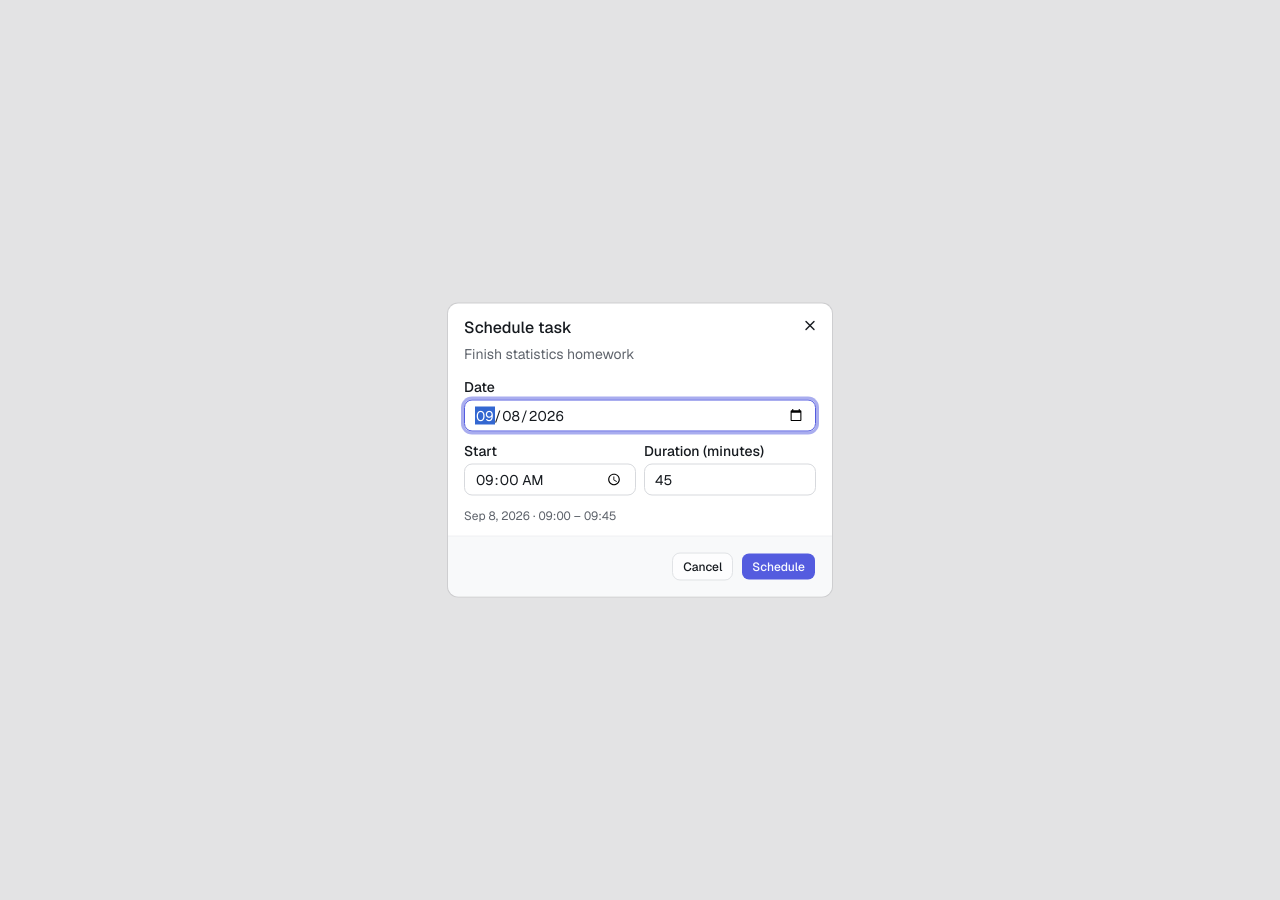
Test: ScheduleTaskDialog › refuses a block shorter than the minimum
Step 1. Replace the text in the number field labelled "Duration (minutes)" with "5" → (730, 480), box [644,464,816,496]
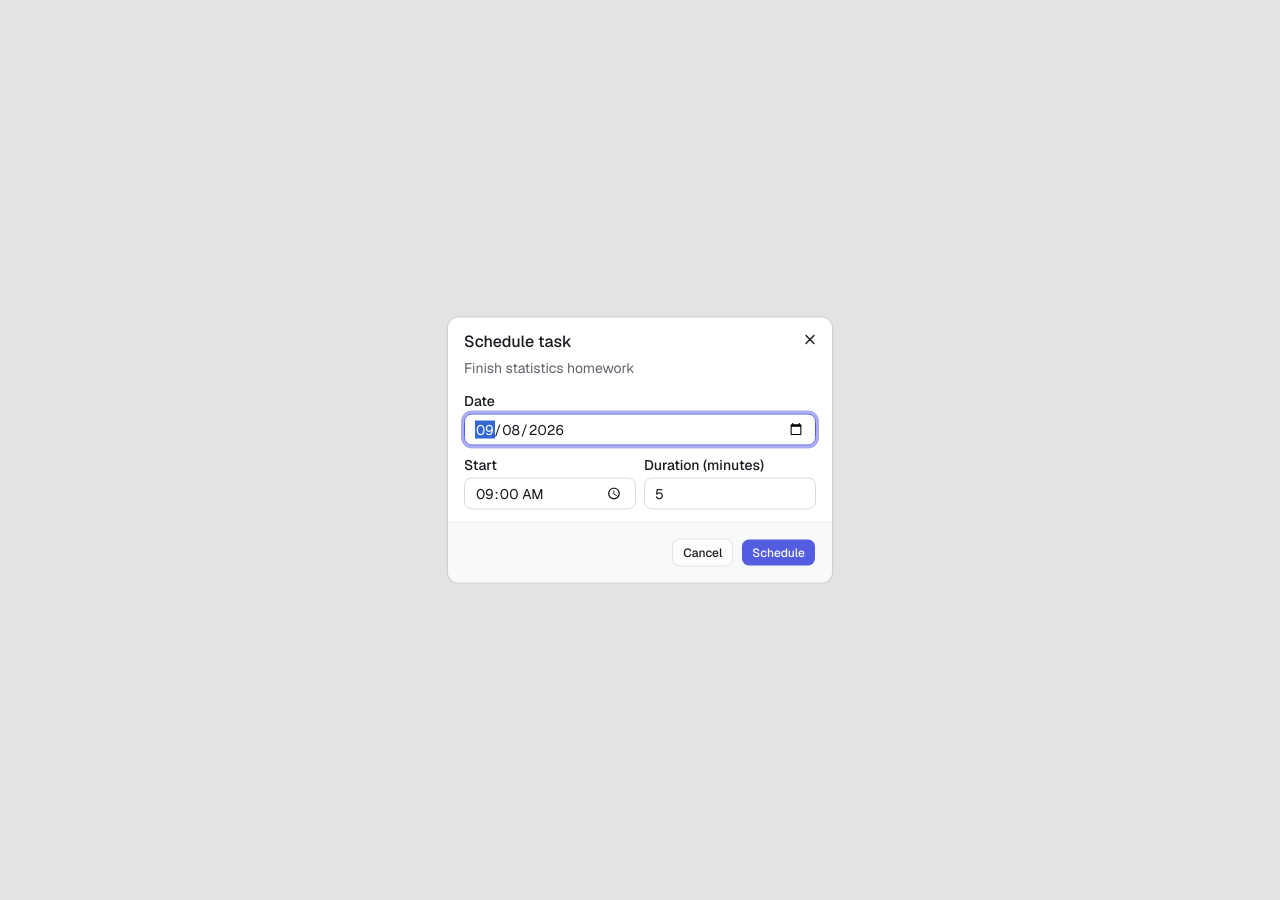
Step 2. Click the button "Schedule" → (779, 552), box [741,538,816,566]
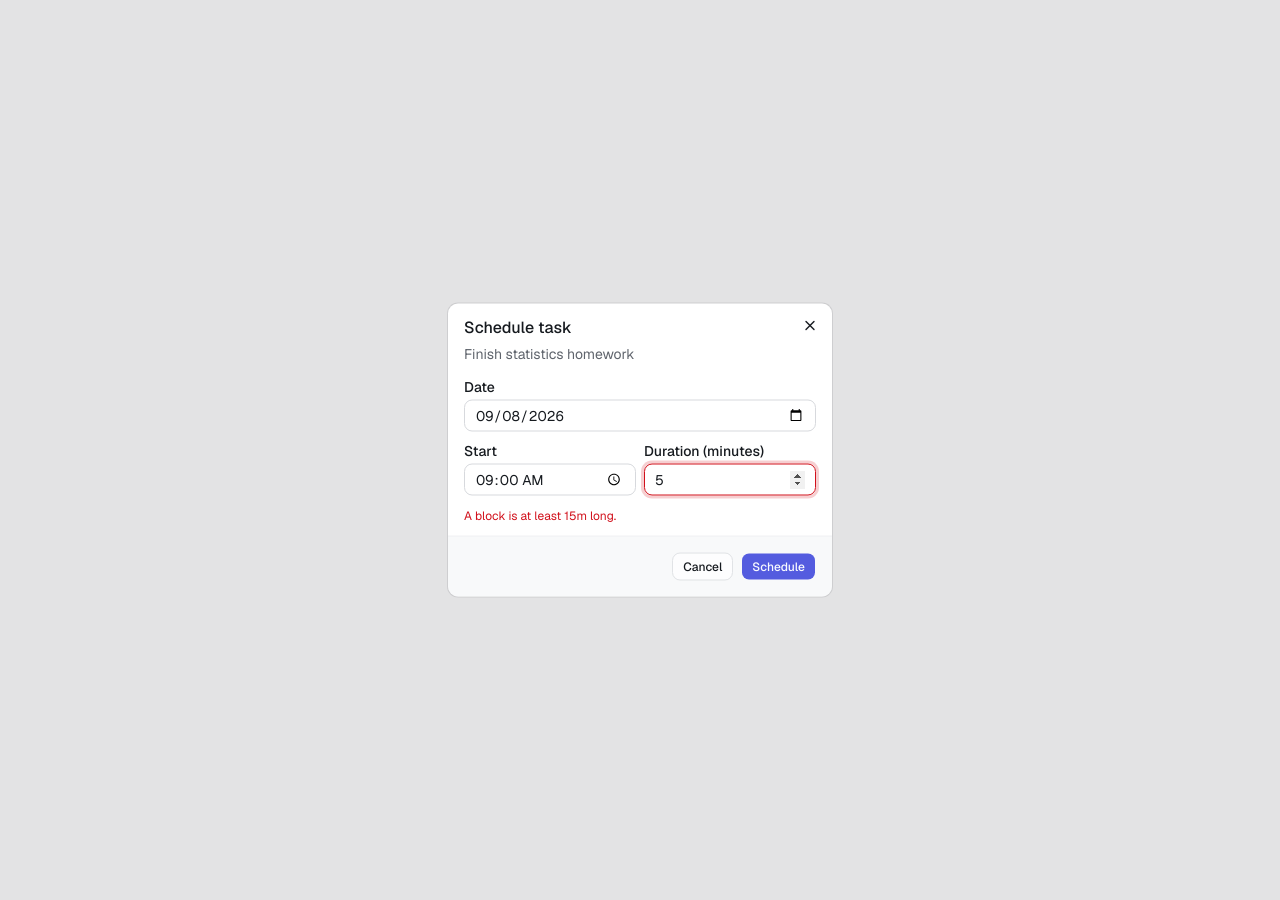
Check: the text "A block is at least 15m long." is shown, box [464,508,616,524]
